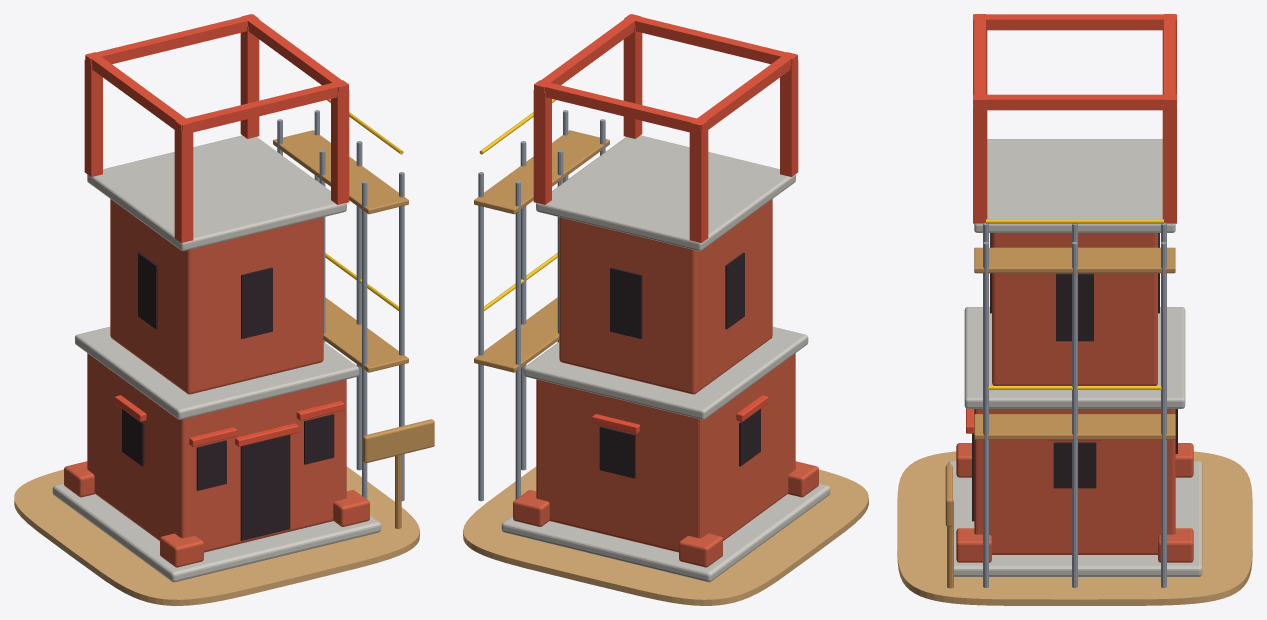
The model's file is clock-tower-stage-2.b31496c6.glb.
3 renders of one model, left to right at view 1: azimuth 30°, elevation 25°; view 2: azimuth 150°, elevation 25°; view 3: azimuth 270°, elevation 25°, orthographic. The views are drawn at different scales.
Parts seen in each view (by area): view 1: ClockTower_Stage2__T_brickwall, ClockTower_Stage2__T_concrete, ClockTower_Stage2__T_beam, ClockTower_Stage2__T_dirt, ClockTower_Stage2__T_opening, ClockTower_Stage2__T_wood, ClockTower_Stage2__T_steel, ClockTower_Stage2__T_brick, ClockTower_Stage2__T_yellow; view 2: ClockTower_Stage2__T_brickwall, ClockTower_Stage2__T_concrete, ClockTower_Stage2__T_beam, ClockTower_Stage2__T_dirt, ClockTower_Stage2__T_steel, ClockTower_Stage2__T_wood, ClockTower_Stage2__T_opening, ClockTower_Stage2__T_brick, ClockTower_Stage2__T_yellow; view 3: ClockTower_Stage2__T_brickwall, ClockTower_Stage2__T_concrete, ClockTower_Stage2__T_dirt, ClockTower_Stage2__T_beam, ClockTower_Stage2__T_wood, ClockTower_Stage2__T_steel, ClockTower_Stage2__T_opening, ClockTower_Stage2__T_brick, ClockTower_Stage2__T_yellow.
Boxes of the visible parts, x1=… form: ClockTower_Stage2__T_brickwall: x1=87, y1=199, x2=346, y2=552; ClockTower_Stage2__T_concrete: x1=52, y1=135, x2=381, y2=582; ClockTower_Stage2__T_beam: x1=84, y1=14, x2=349, y2=446; ClockTower_Stage2__T_dirt: x1=14, y1=466, x2=419, y2=605; ClockTower_Stage2__T_opening: x1=122, y1=252, x2=334, y2=540; ClockTower_Stage2__T_wood: x1=273, y1=130, x2=434, y2=528; ClockTower_Stage2__T_steel: x1=277, y1=110, x2=404, y2=501; ClockTower_Stage2__T_brick: x1=64, y1=461, x2=369, y2=567; ClockTower_Stage2__T_yellow: x1=325, y1=99, x2=403, y2=310; ClockTower_Stage2__T_brickwall: x1=536, y1=199, x2=795, y2=552; ClockTower_Stage2__T_concrete: x1=501, y1=135, x2=830, y2=582; ClockTower_Stage2__T_beam: x1=533, y1=14, x2=798, y2=433; ClockTower_Stage2__T_dirt: x1=463, y1=466, x2=868, y2=605; ClockTower_Stage2__T_steel: x1=478, y1=110, x2=605, y2=501; ClockTower_Stage2__T_wood: x1=474, y1=130, x2=609, y2=372; ClockTower_Stage2__T_opening: x1=599, y1=252, x2=760, y2=478; ClockTower_Stage2__T_brick: x1=513, y1=461, x2=818, y2=567; ClockTower_Stage2__T_yellow: x1=479, y1=99, x2=557, y2=310; ClockTower_Stage2__T_brickwall: x1=974, y1=233, x2=1175, y2=554; ClockTower_Stage2__T_concrete: x1=947, y1=139, x2=1202, y2=576; ClockTower_Stage2__T_dirt: x1=897, y1=451, x2=1252, y2=605; ClockTower_Stage2__T_beam: x1=966, y1=14, x2=1176, y2=440; ClockTower_Stage2__T_wood: x1=945, y1=247, x2=1175, y2=588; ClockTower_Stage2__T_steel: x1=983, y1=222, x2=1166, y2=587; ClockTower_Stage2__T_opening: x1=972, y1=233, x2=1177, y2=521; ClockTower_Stage2__T_brick: x1=956, y1=443, x2=1193, y2=562; ClockTower_Stage2__T_yellow: x1=986, y1=219, x2=1163, y2=389.
Size of the model in its own units: 4.98 by 7.06 by 4.8.
